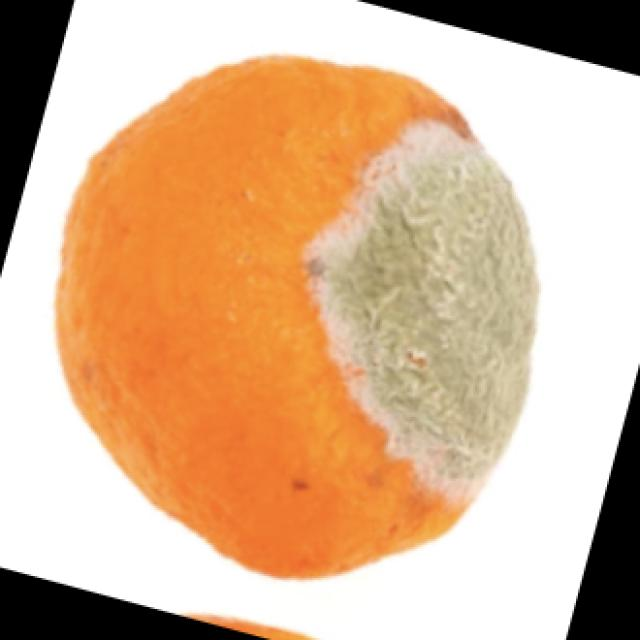sedikit_busuk: (56, 51, 541, 598)
